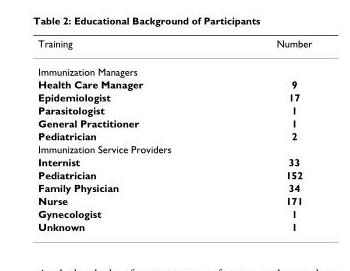table: (37, 37, 311, 232)
table column: (37, 37, 209, 232), (209, 37, 311, 232)
table column header: (37, 37, 311, 57)
table projected row header: (37, 57, 311, 77), (37, 142, 311, 155)
table row: (37, 37, 311, 57), (37, 57, 311, 77), (37, 77, 311, 90), (37, 90, 311, 103), (37, 103, 311, 116), (37, 116, 311, 129), (37, 129, 311, 142), (37, 142, 311, 155), (37, 155, 311, 168), (37, 180, 311, 193), (37, 193, 311, 206), (37, 206, 311, 219), (37, 219, 311, 232), (37, 168, 311, 180)
